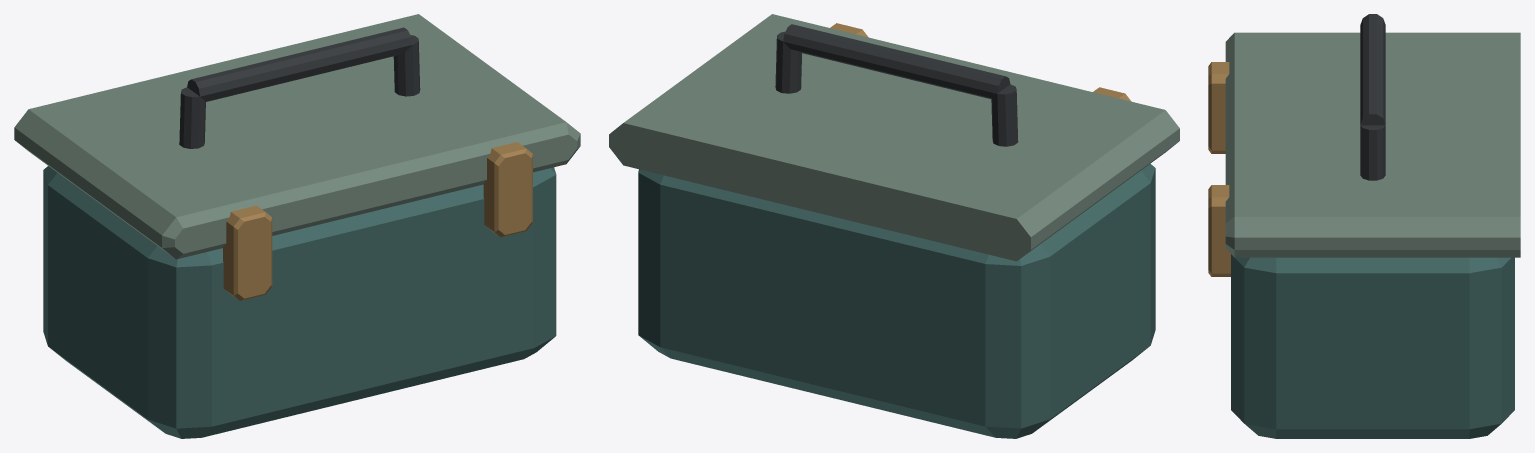
Rendered from G-08_lunchbox.glb.
3 views of the same model, side by side, from view 1: azimuth 30°, elevation 25°; view 2: azimuth 150°, elevation 25°; view 3: azimuth 270°, elevation 25° (orthographic). The views are drawn at different scales.
Parts seen in each view (by area): view 1: G-08_lunchbox; view 2: G-08_lunchbox; view 3: G-08_lunchbox.
Part boxes in pixels (x1=…): G-08_lunchbox: x1=14, y1=14, x2=580, y2=438; G-08_lunchbox: x1=609, y1=14, x2=1179, y2=438; G-08_lunchbox: x1=1208, y1=14, x2=1520, y2=438.
Size of the model in its own units: 0.26 by 0.1767 by 0.1735.
